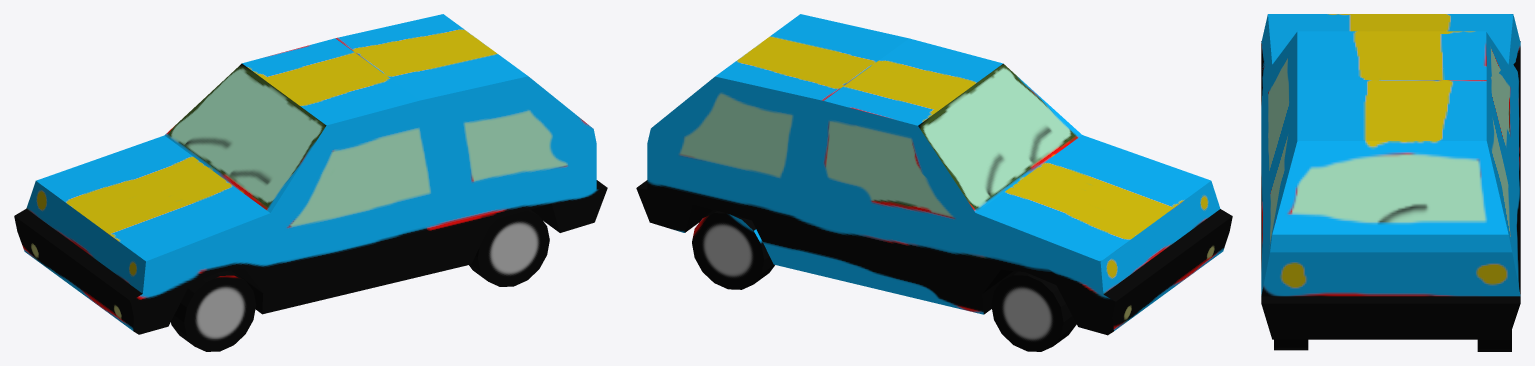
File: PandaBlu.glb
3 views of the same model, side by side, from view 1: azimuth 30°, elevation 25°; view 2: azimuth 150°, elevation 25°; view 3: azimuth 270°, elevation 25° (orthographic). The views are drawn at different scales.
Parts seen in each view (by area): view 1: Cube; view 2: Cube; view 3: Cube.
Part boxes in pixels (x1,y1,x2,y2): Cube: (14, 14, 607, 351); Cube: (636, 14, 1232, 351); Cube: (1261, 14, 1520, 351).
Bounding box in the file's own units: 1.78 × 0.7105 × 0.7512.
Materials: 1 (1 with a texture image).
